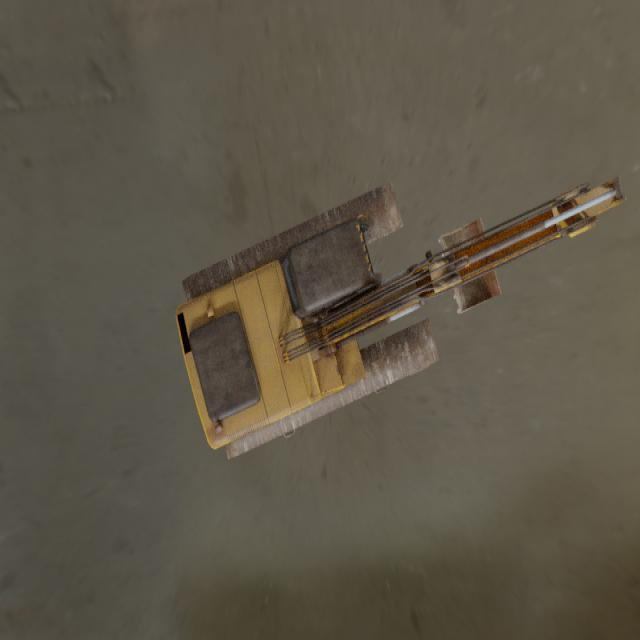excavator: (175, 174, 627, 458)
